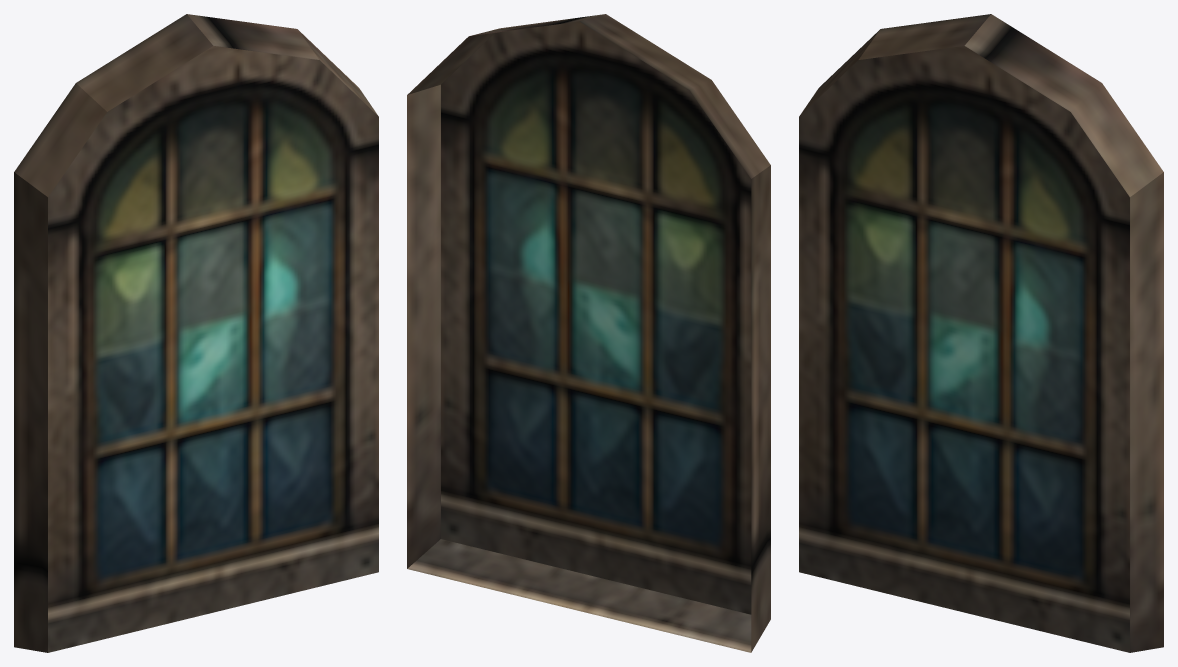
Rendered from window_1.fbx.
3 views of the same model, side by side, from view 1: azimuth 30°, elevation 25°; view 2: azimuth 150°, elevation 25°; view 3: azimuth 330°, elevation 25° (orthographic).
Visible parts, largest first — view 1: window_1; view 2: window_1; view 3: window_1.
Part boxes in pixels (x1=…): window_1: x1=14, y1=14, x2=378, y2=652; window_1: x1=407, y1=14, x2=770, y2=652; window_1: x1=799, y1=14, x2=1163, y2=652.
Size of the model in its own units: 1.23 by 2.01 by 0.1652.
